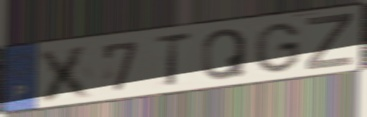7: (100, 38, 140, 94)
G: (252, 21, 303, 75)
Q: (200, 27, 249, 83)
T: (151, 30, 195, 89)
X: (37, 42, 97, 104)
Z: (304, 11, 355, 72)
